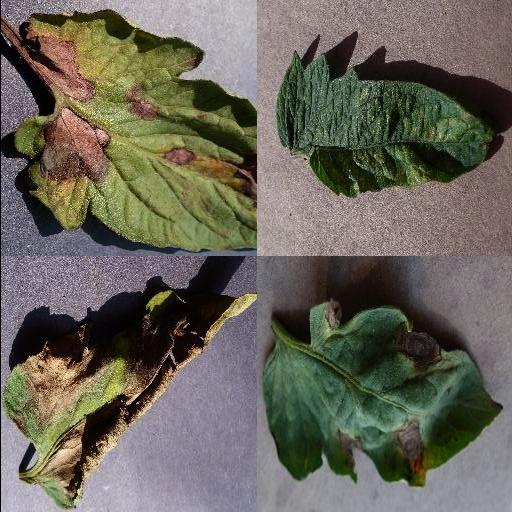Early Blight: (257, 297, 503, 489)
Late Blight: (12, 9, 256, 256), (0, 287, 256, 511)
Spider Mites: (274, 50, 496, 198)
